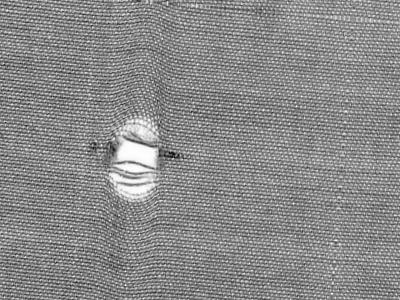hole: (105, 113, 163, 206)
